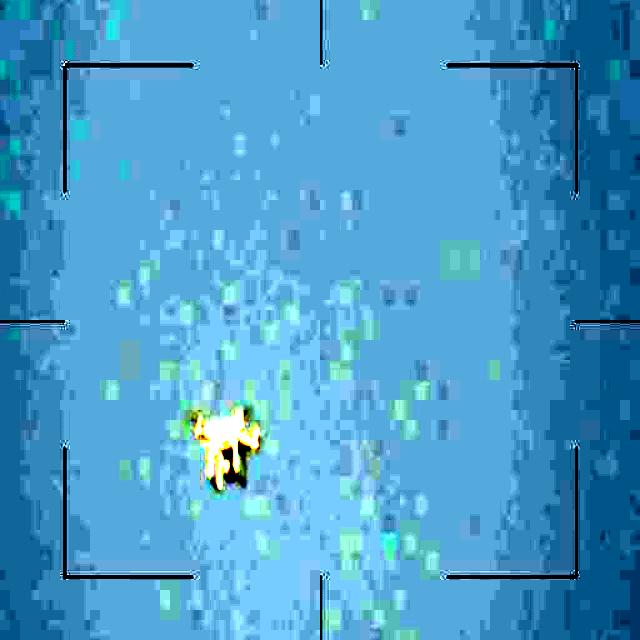bird: (181, 396, 266, 495)
